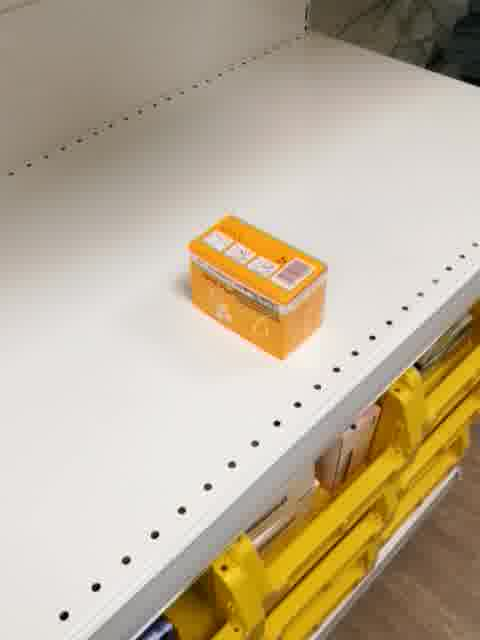jasminetea: (185, 211, 331, 363)
